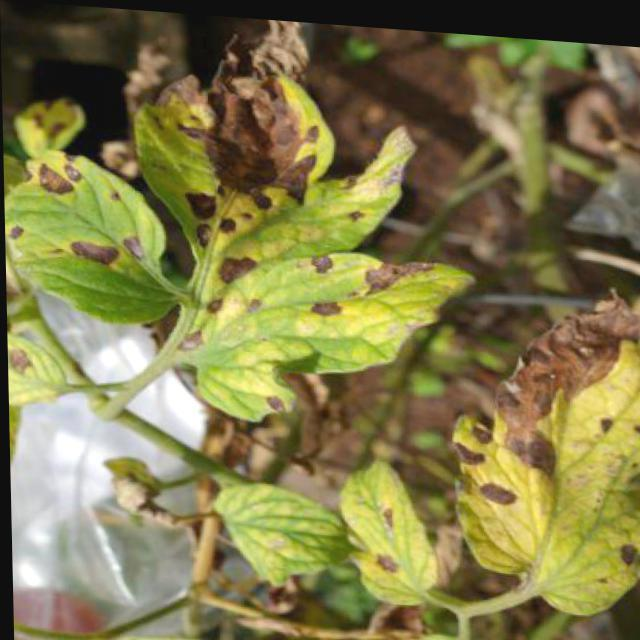Tomato late blight leaf: (448, 251, 639, 635), (160, 234, 477, 426), (6, 146, 186, 330), (334, 456, 446, 603), (206, 478, 347, 586)
